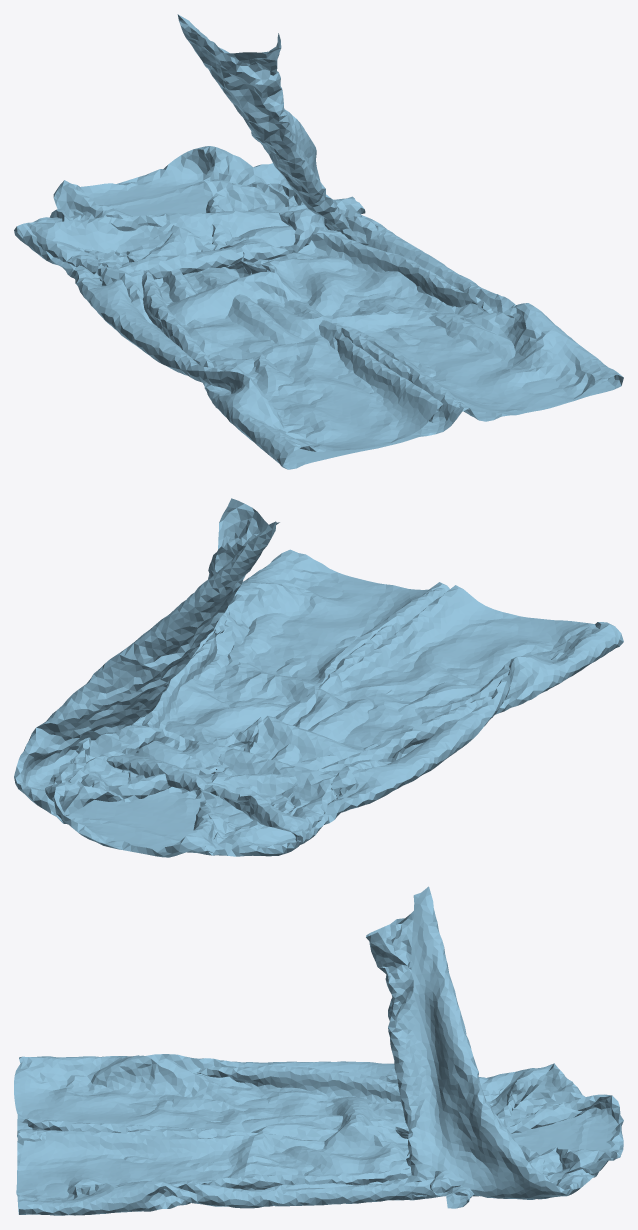
File: frame_15.glb
3 views of the same model, one above another, from view 1: azimuth 30°, elevation 25°; view 2: azimuth 150°, elevation 25°; view 3: azimuth 270°, elevation 25° (orthographic). The views are drawn at different scales.
Visible parts, largest first — view 1: frame_15.obj; view 2: frame_15.obj; view 3: frame_15.obj.
Part boxes in pixels (box(x1,y1,x2,y2)): frame_15.obj: box(14, 14, 623, 469); frame_15.obj: box(14, 498, 623, 857); frame_15.obj: box(14, 886, 623, 1215).
Bounding box in the file's own units: 0.961 × 0.71 × 1.65.
